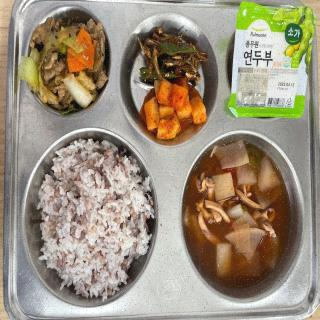Nasi: (38, 142, 156, 302)
